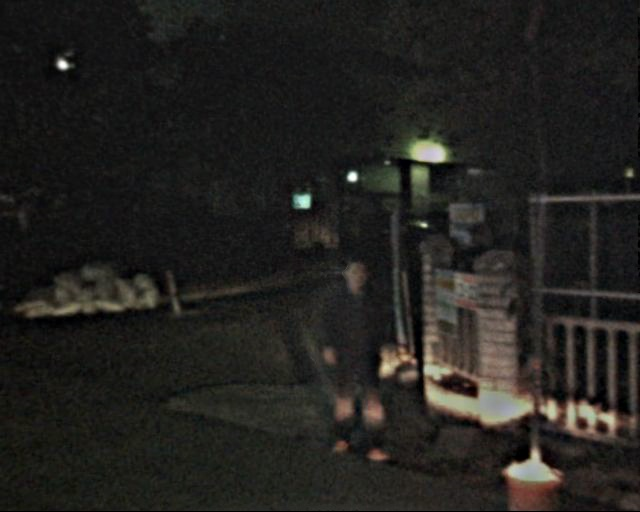person: (310, 251, 395, 463)
